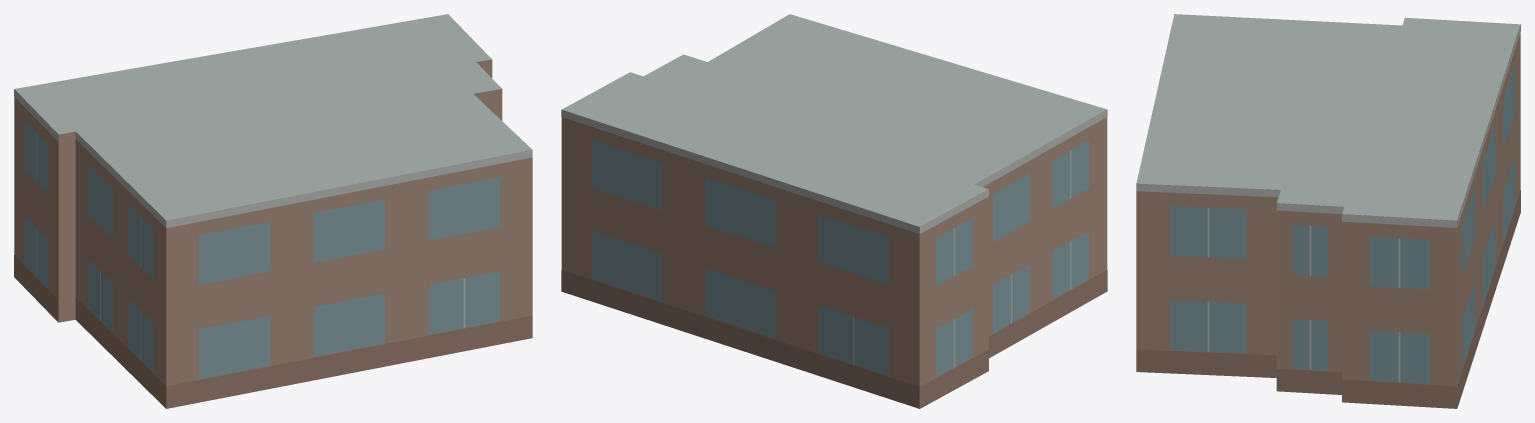
File: survey-upis-33036762.glb
The picture shows the model from 3 angles, left to right: view 1: azimuth 30°, elevation 25°; view 2: azimuth 150°, elevation 25°; view 3: azimuth 270°, elevation 25°; orthographic projection. The views are drawn at different scales.
Visible parts, largest first — view 1: survey-upis-33036762.tmp; view 2: survey-upis-33036762.tmp; view 3: survey-upis-33036762.tmp.
Boxes of the visible parts, x1,y1,x2,y2 form: survey-upis-33036762.tmp: (14, 14, 532, 408); survey-upis-33036762.tmp: (561, 14, 1107, 408); survey-upis-33036762.tmp: (1136, 14, 1520, 408).
Size of the model in its own units: 14.37 by 6.1 by 11.3.
